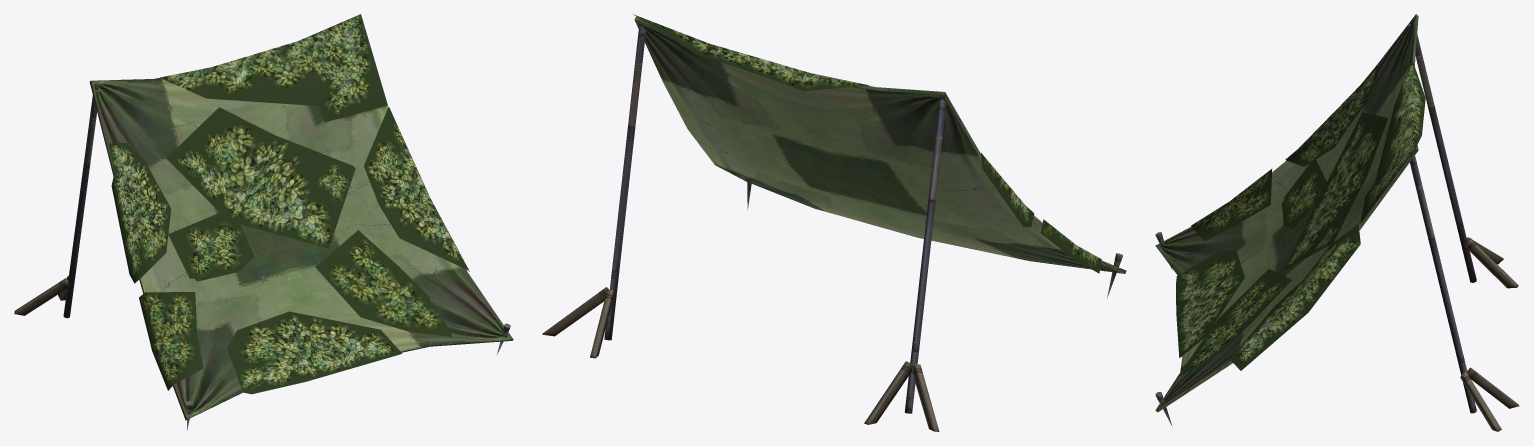
File: all_item_slave_camo_netting1.glb
The picture shows the model from 3 angles, left to right: view 1: azimuth 30°, elevation 25°; view 2: azimuth 150°, elevation 25°; view 3: azimuth 270°, elevation 25°; orthographic projection. The views are drawn at different scales.
Visible parts, largest first — view 1: all_item_slave_camo_netting1; view 2: all_item_slave_camo_netting1; view 3: all_item_slave_camo_netting1.
Boxes of the visible parts, <box> form: all_item_slave_camo_netting1: <box>14,14,513,430</box>; all_item_slave_camo_netting1: <box>542,14,1126,431</box>; all_item_slave_camo_netting1: <box>1155,14,1519,431</box>.
Size of the model in its own units: 0.6702 by 0.4868 by 0.5962.
Materials: 2 (2 with a texture image).
